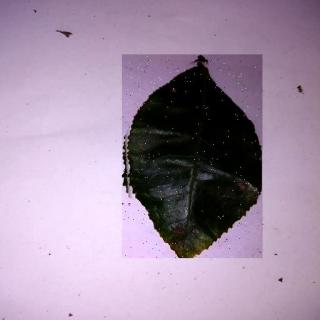Anthracnose: (124, 55, 265, 259)
